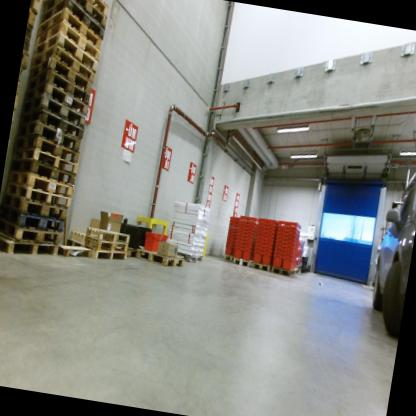pallet: (83, 221, 206, 268), (24, 62, 105, 102), (14, 105, 96, 144), (20, 52, 96, 94), (24, 31, 100, 72), (11, 115, 96, 151), (8, 133, 86, 169), (20, 81, 91, 120), (36, 4, 103, 42), (26, 43, 98, 78), (0, 180, 77, 212), (4, 155, 82, 186), (38, 0, 114, 31), (19, 95, 93, 126), (2, 170, 80, 198), (33, 21, 99, 53), (0, 232, 66, 261), (0, 207, 68, 234), (8, 147, 83, 171), (38, 0, 110, 25), (64, 239, 130, 266), (0, 200, 72, 223), (0, 223, 64, 246), (134, 246, 187, 272), (82, 232, 132, 259), (44, 0, 117, 11), (122, 241, 148, 261), (269, 264, 297, 279), (27, 5, 41, 31), (67, 229, 85, 245), (221, 252, 243, 264), (250, 260, 271, 272), (231, 256, 250, 269), (30, 0, 45, 14), (22, 43, 33, 60), (14, 90, 23, 108), (27, 29, 36, 43), (19, 68, 26, 83), (294, 266, 301, 277)
small_load_carrier: (281, 256, 296, 274), (270, 253, 284, 272), (260, 250, 273, 266), (232, 244, 244, 260), (251, 250, 262, 266), (242, 246, 253, 262), (223, 243, 232, 254)
